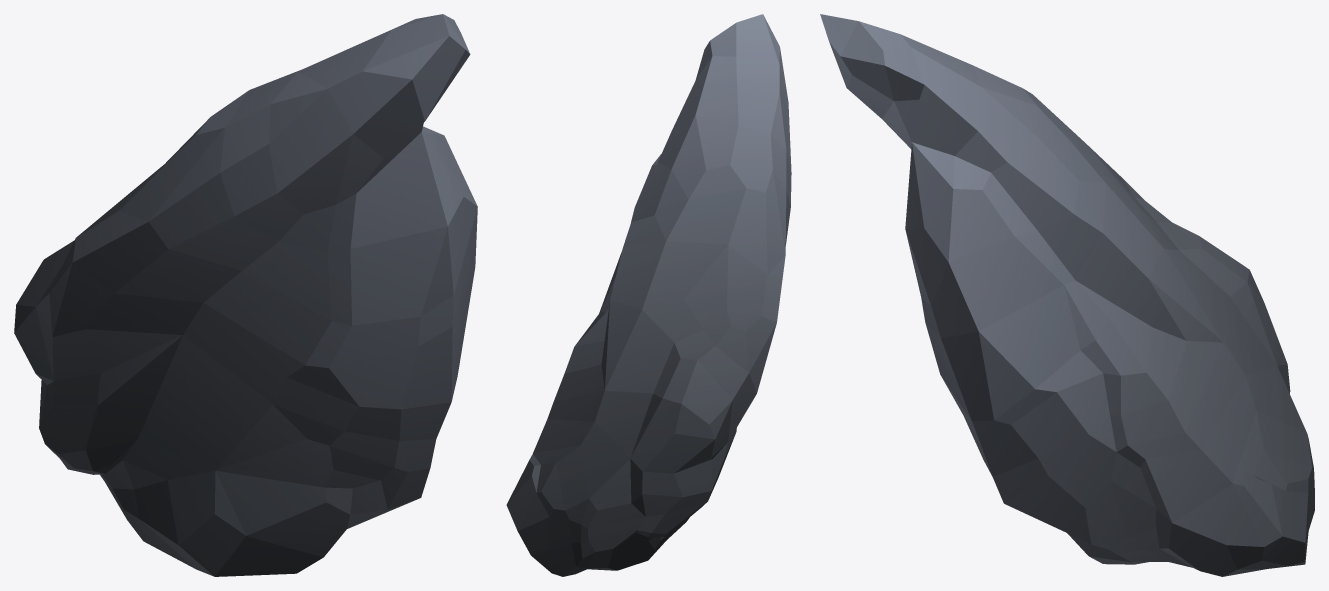
File: Rock02_SColby.FBX
3 renders of one model, left to right at view 1: azimuth 30°, elevation 25°; view 2: azimuth 150°, elevation 25°; view 3: azimuth 270°, elevation 25°, orthographic. The views are drawn at different scales.
Visible parts, largest first — view 1: Rock001; view 2: Rock001; view 3: Rock001.
Boxes of the visible parts, <box> form: Rock001: <box>14,14,477,576</box>; Rock001: <box>506,14,791,576</box>; Rock001: <box>820,14,1314,576</box>.
Size of the model in its own units: 64.02 by 125 by 103.
